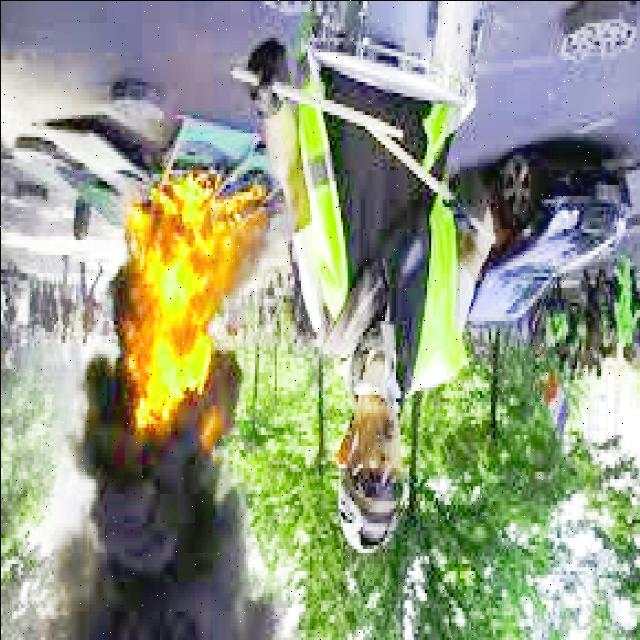api: (99, 178, 275, 443)
